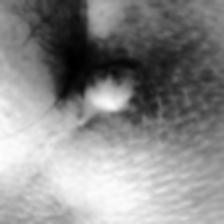Toxin: (85, 58, 144, 116)
